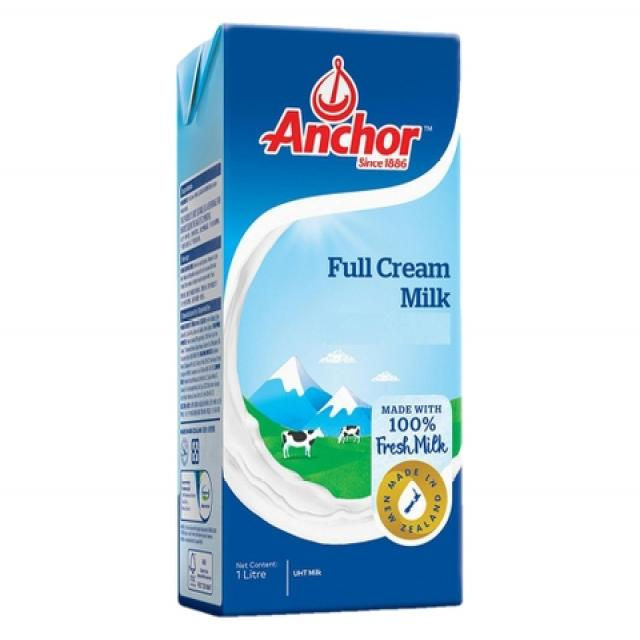non_white_jug: (142, 6, 466, 622)
